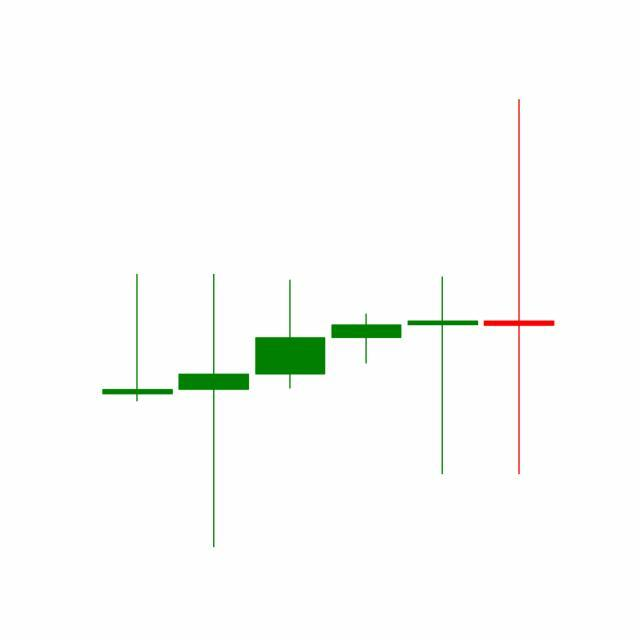Spinning Top: (404, 274, 482, 477)
